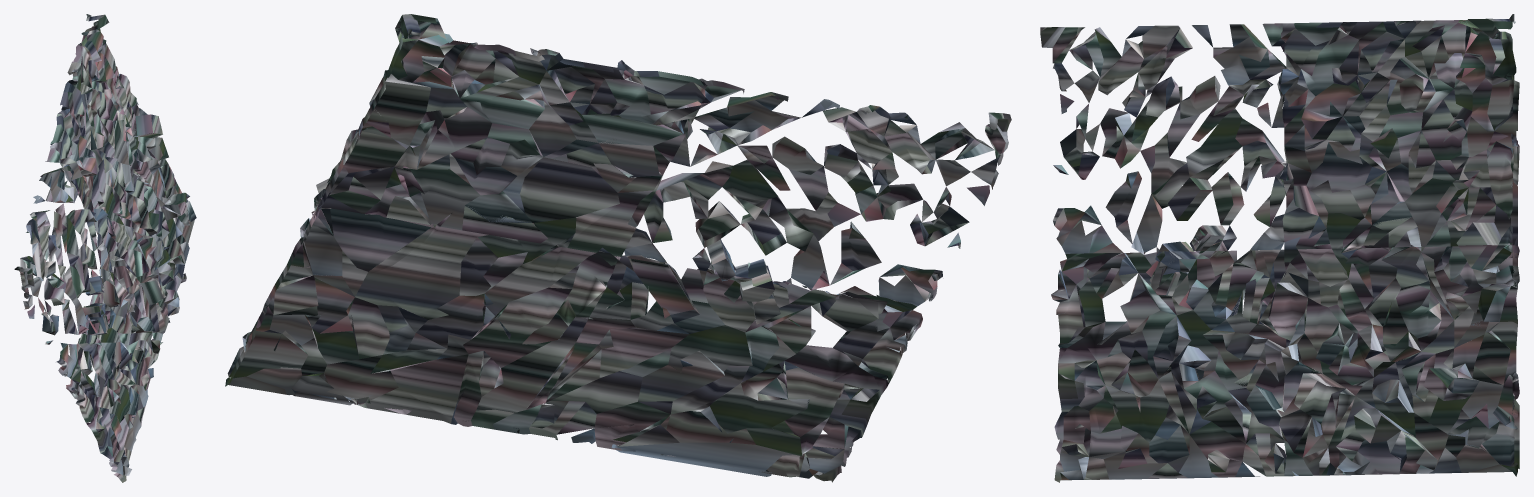
The picture shows the model from 3 angles, left to right: view 1: azimuth 30°, elevation 25°; view 2: azimuth 150°, elevation 25°; view 3: azimuth 270°, elevation 25°; orthographic projection. The views are drawn at different scales.
Parts seen in each view (by area): view 1: node_3043627270436072_mesh0, node_3043627270436072_mesh1; view 2: node_3043627270436072_mesh0, node_3043627270436072_mesh1; view 3: node_3043627270436072_mesh0, node_3043627270436072_mesh1.
Part boxes in pixels (box(x1,y1,x2,y2)): node_3043627270436072_mesh0: box(14, 14, 196, 482); node_3043627270436072_mesh1: box(18, 14, 189, 475); node_3043627270436072_mesh0: box(225, 14, 1011, 482); node_3043627270436072_mesh1: box(228, 14, 1009, 478); node_3043627270436072_mesh0: box(1040, 14, 1519, 482); node_3043627270436072_mesh1: box(1040, 18, 1519, 480).
Size of the model in its own units: 567 by 589 by 462.
2 materials, 2 textured.
